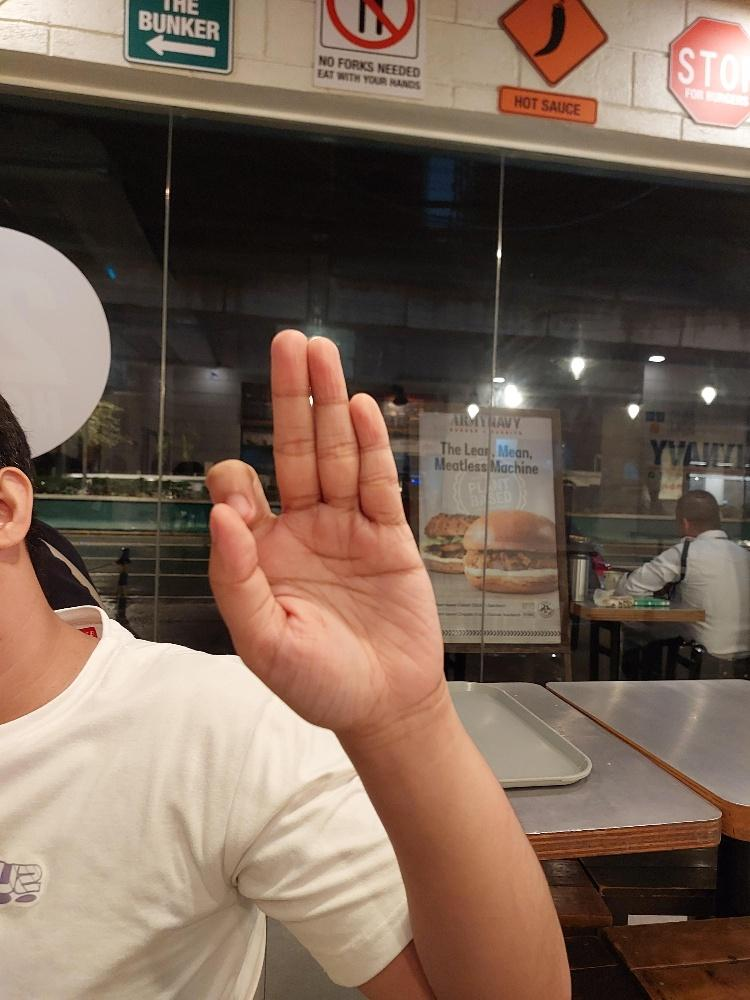f: (205, 325, 446, 730)
